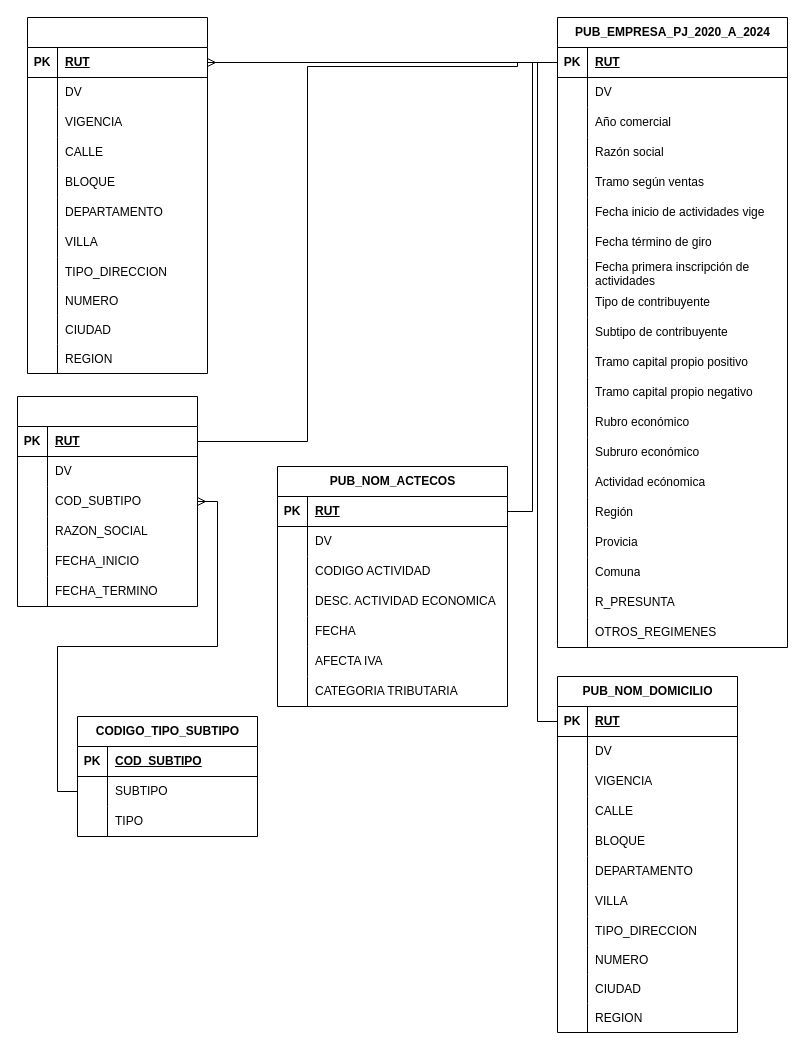
Image size: 805x1050. Some labels were removed from this diagram. The shapes that lost their labels are listed below. From the top down, each one's box as (x1, y1, x2, y2) in pixels, then its label:
(26, 16, 208, 374): PUB_NOM_SUCURSAL
(16, 396, 198, 606): PUB_NOMBRE_PJ
